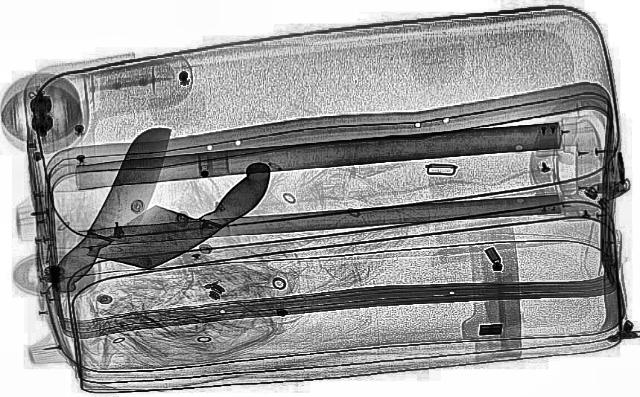Knife: (81, 151, 301, 281), (45, 121, 192, 300)
